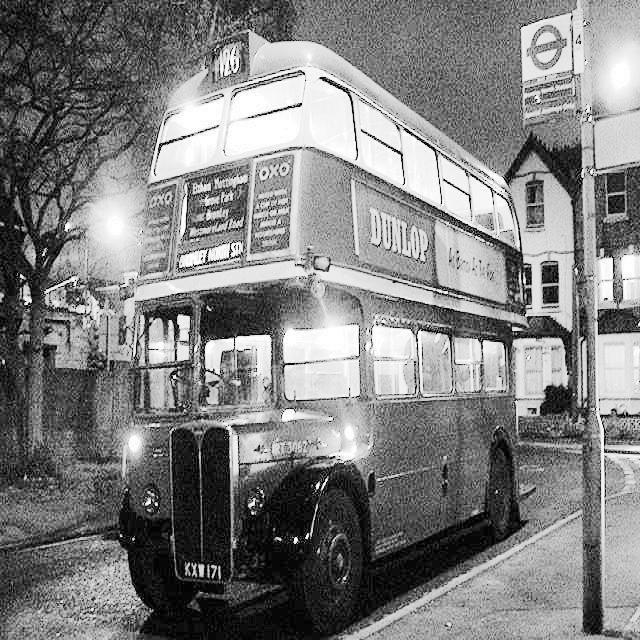Bus: (119, 21, 556, 636)
